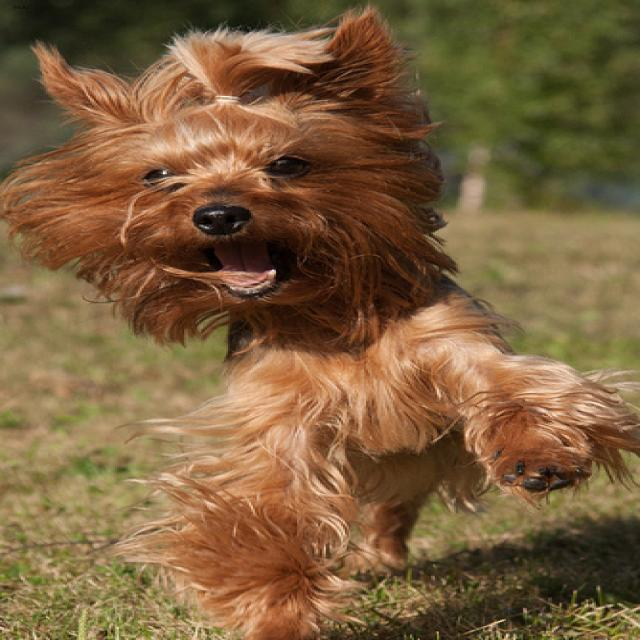dog-yorkshire_terrier: (2, 1, 636, 637)
